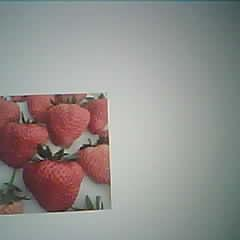straw-ripe: (23, 157, 83, 210), (1, 121, 48, 168), (49, 101, 89, 147), (77, 142, 111, 184)
